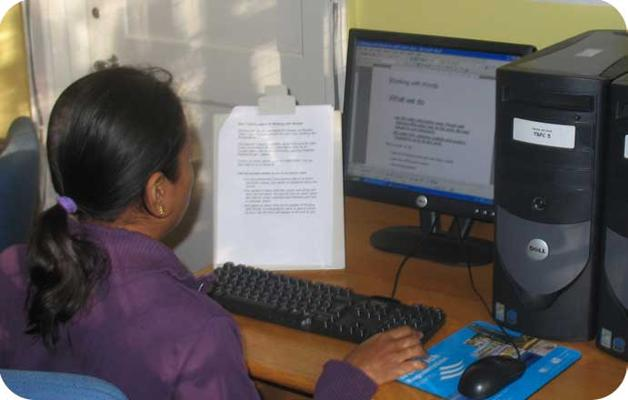person: (3, 65, 434, 400)
